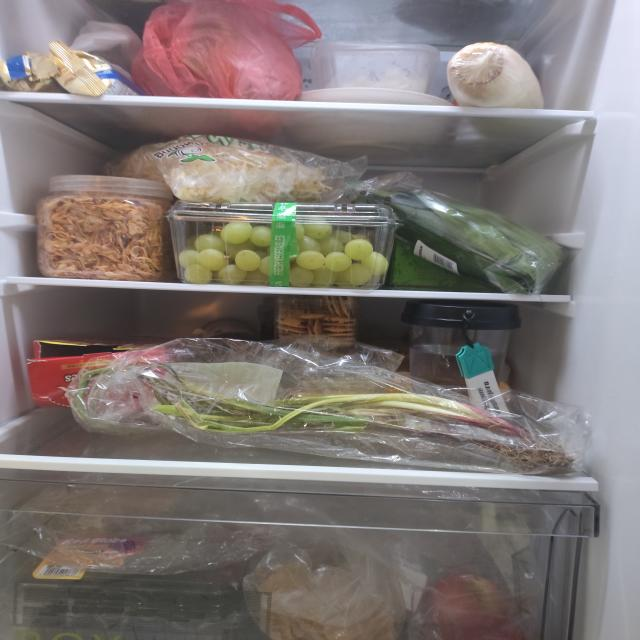apple: (426, 573, 527, 640)
bean_sprouts: (118, 134, 334, 203)
corn: (446, 42, 545, 110)
grape: (179, 217, 389, 290)
leafy_greens: (350, 188, 564, 296)
spring_onion: (71, 360, 577, 476)
unknown_bag: (129, 0, 323, 101)
